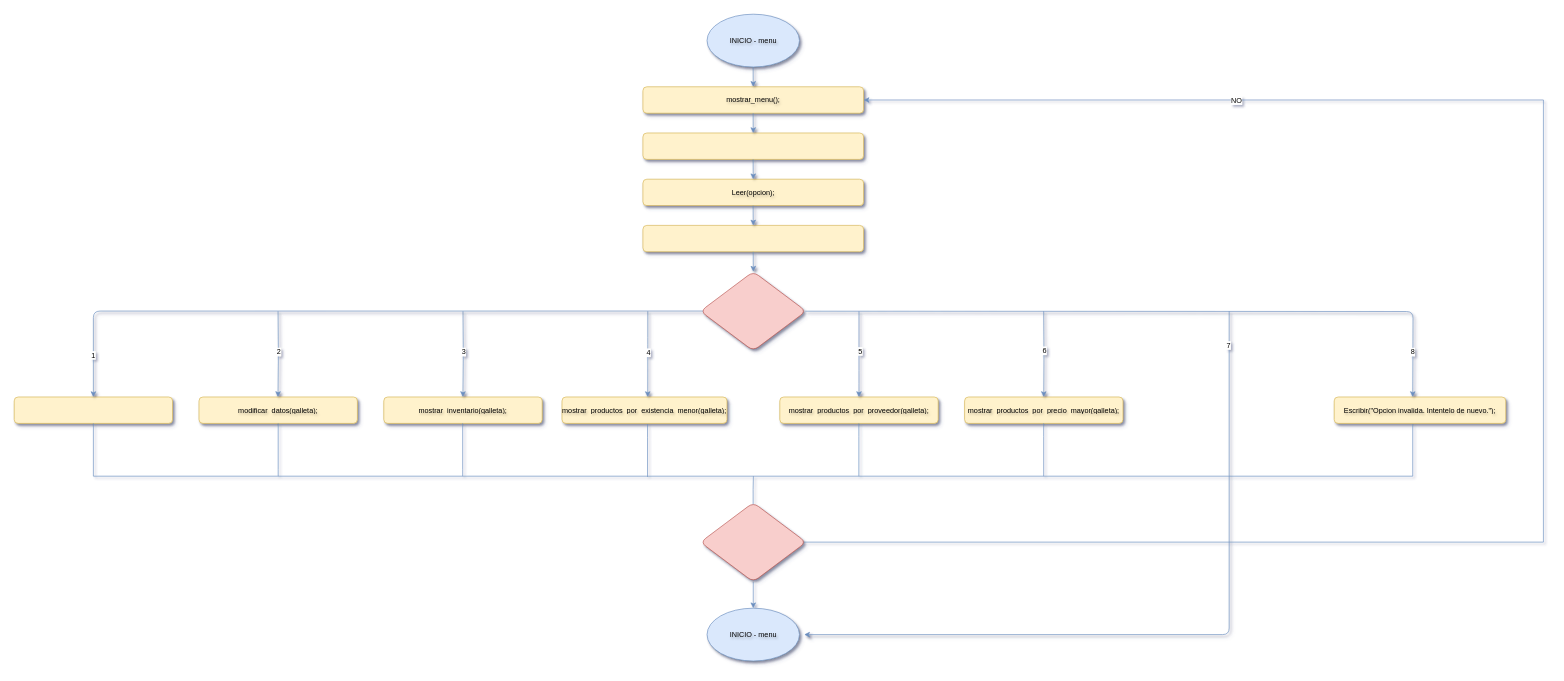
This 1564x681 diagram has some shape labels left out. The shapes that lost their labels are listed below. From the top down, each one's centre as x and y in pixels, then its label:
pixel 754 147: Escribir("Seleccione una opcion: ");
pixel 754 239: Escribir("Ingrese los datos: ");
pixel 753 311: SI calif es:
pixel 94 411: insertar_producto(galleta);
pixel 753 542: opcion = 7
